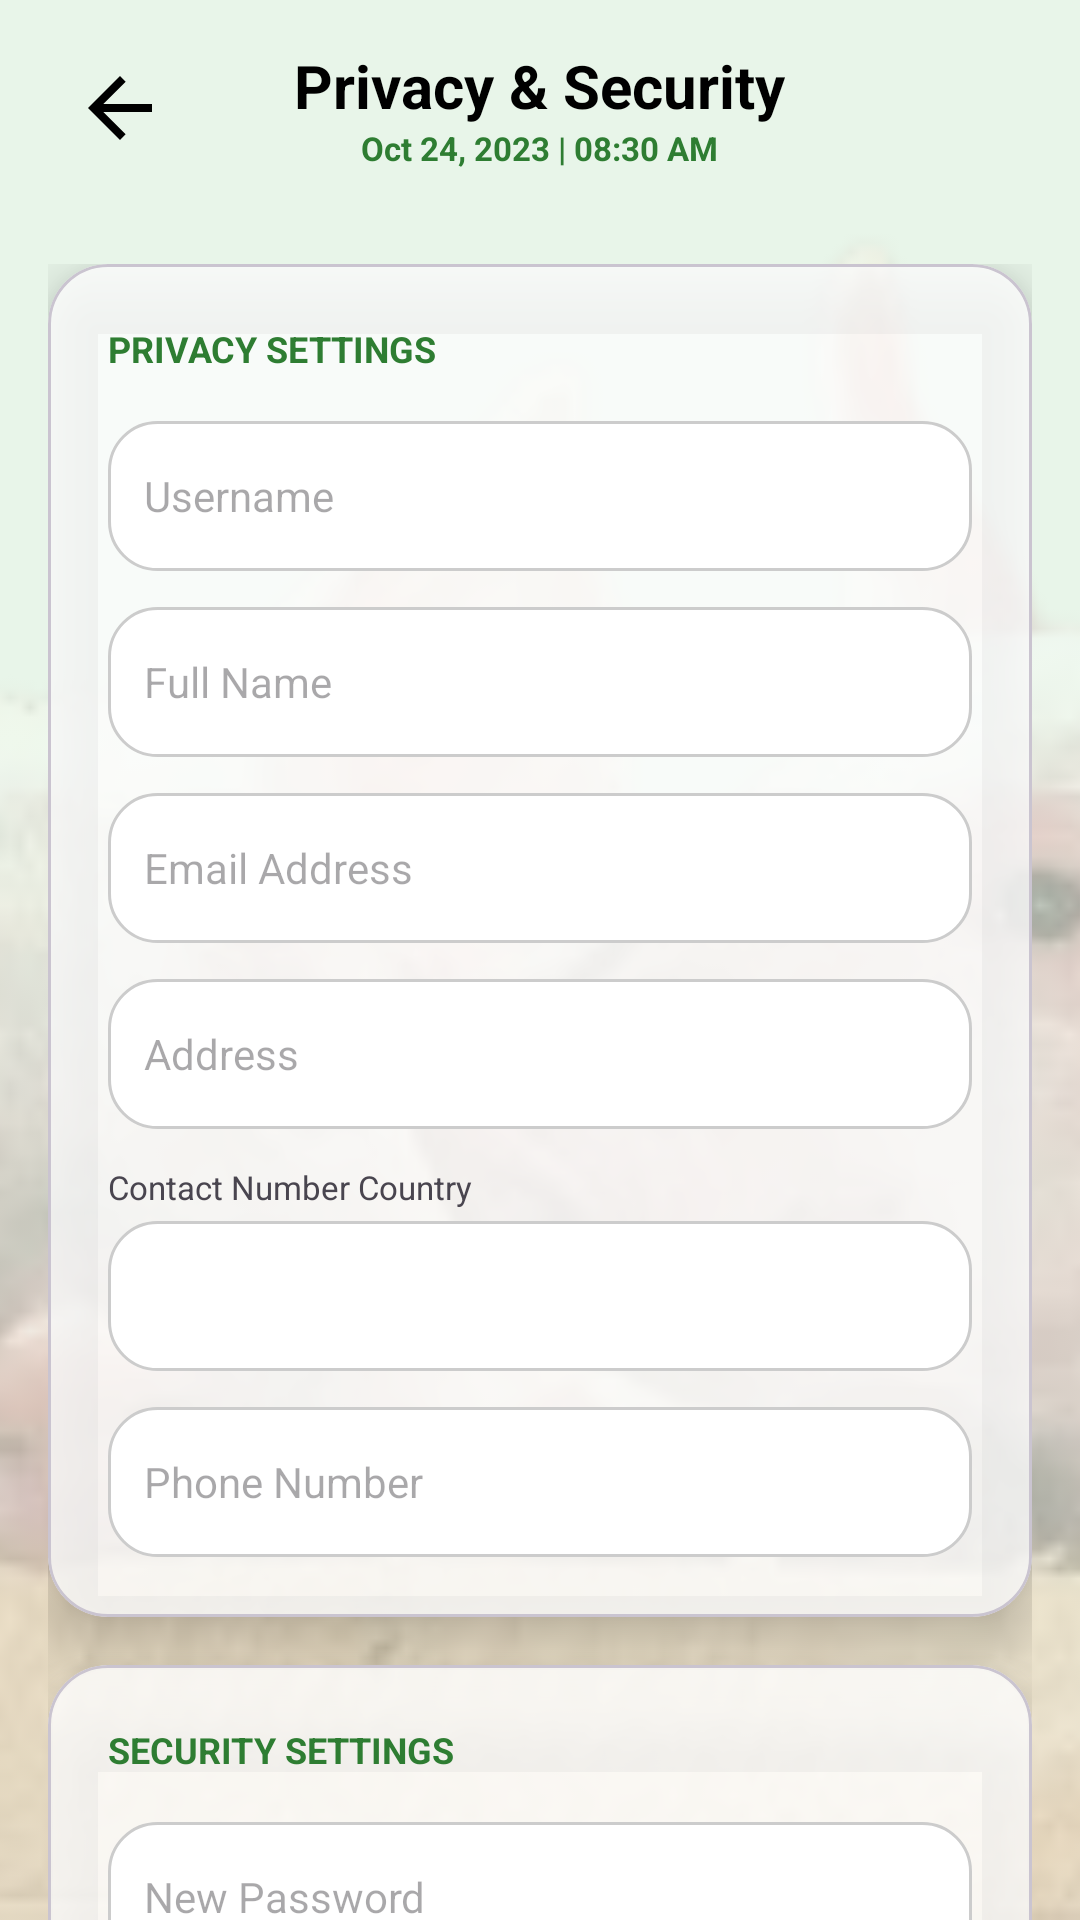

Where icons sit on this 1080px×1920px app screen, as bbox(x1, y1, x2, y2):
back arrow: bbox(88, 76, 152, 140)
